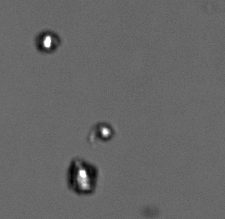Living Cell: (67, 155, 100, 197), (34, 29, 62, 53), (93, 121, 118, 142)
